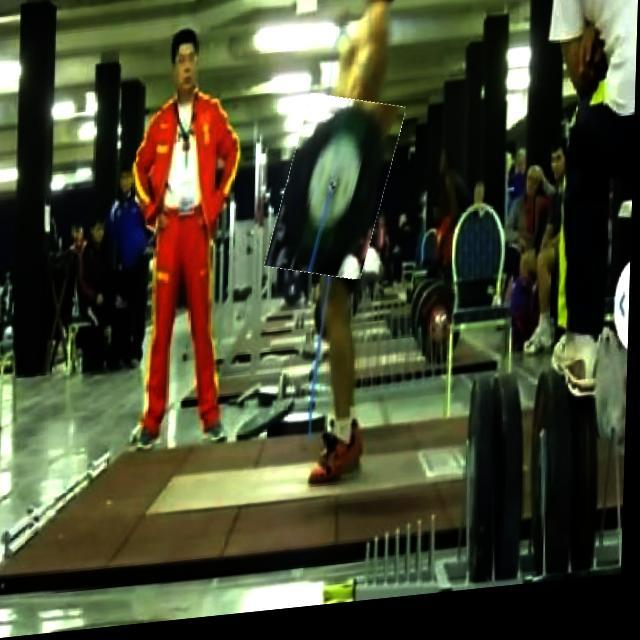barbell: (276, 99, 398, 290)
